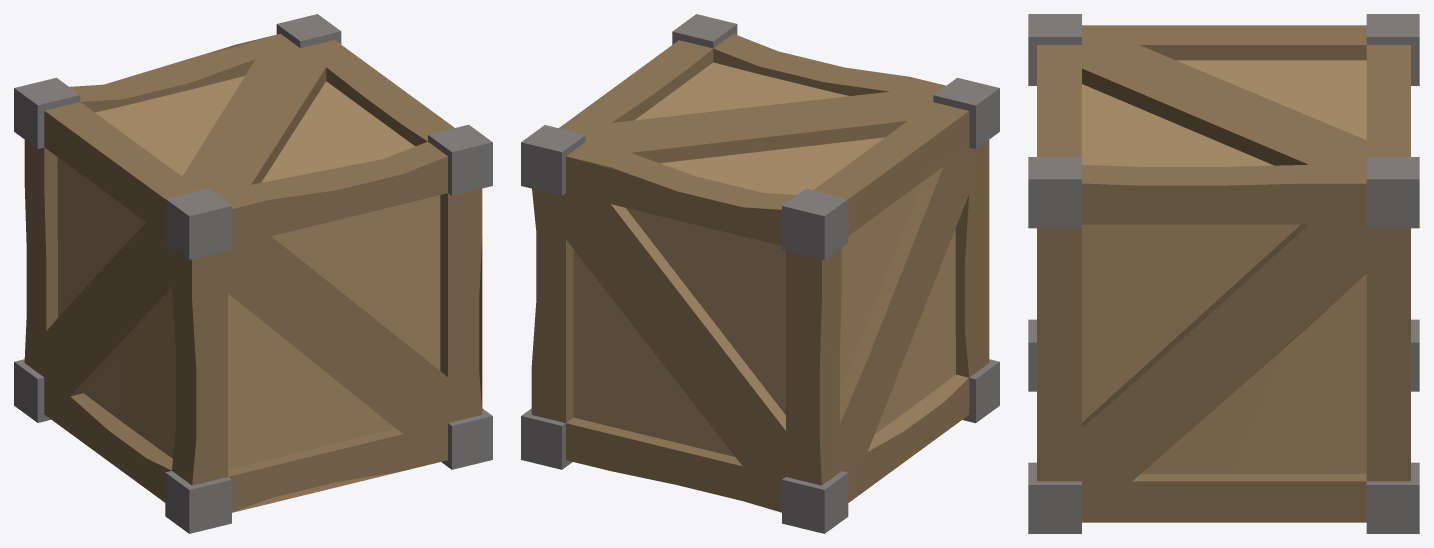
File: Crate_SlimBox.fbx
The picture shows the model from 3 angles, left to right: view 1: azimuth 30°, elevation 25°; view 2: azimuth 150°, elevation 25°; view 3: azimuth 270°, elevation 25°; orthographic projection. The views are drawn at different scales.
Visible parts, largest first — view 1: SlimTrim; view 2: SlimTrim; view 3: SlimTrim.
Boxes of the visible parts, x1,y1,x2,y2 form: SlimTrim: (14, 14, 492, 533); SlimTrim: (521, 14, 999, 533); SlimTrim: (1028, 14, 1419, 533).
Bounding box in the file's own units: 4.58 × 4.58 × 4.58.
